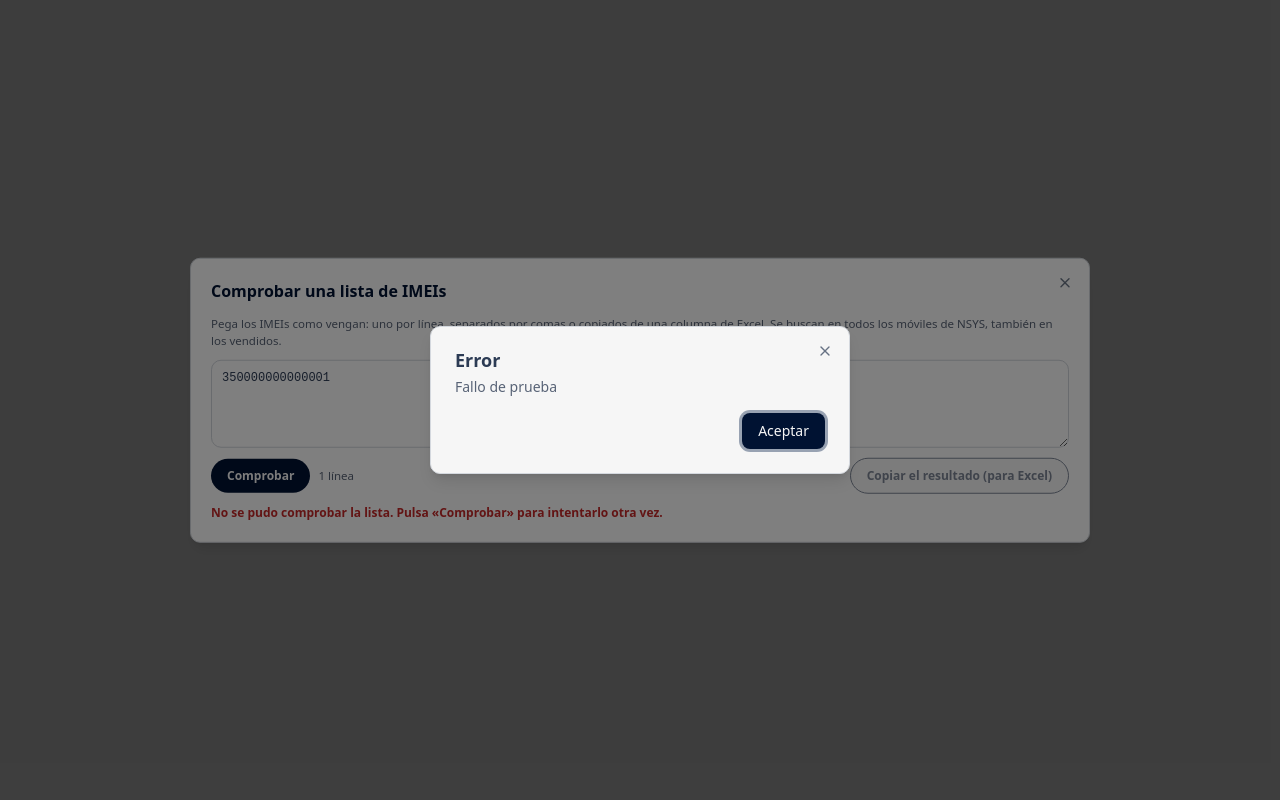
Test: Comprobar una lista de IMEIs (spec 0.9.18 §4.9) › si la comprobación falla lo dice, y «Comprobar» vuelve a preguntar
The width and height of the screenshot is (1280, 800).
Click the button "Aceptar" at (784,431), box [742,413,825,449]
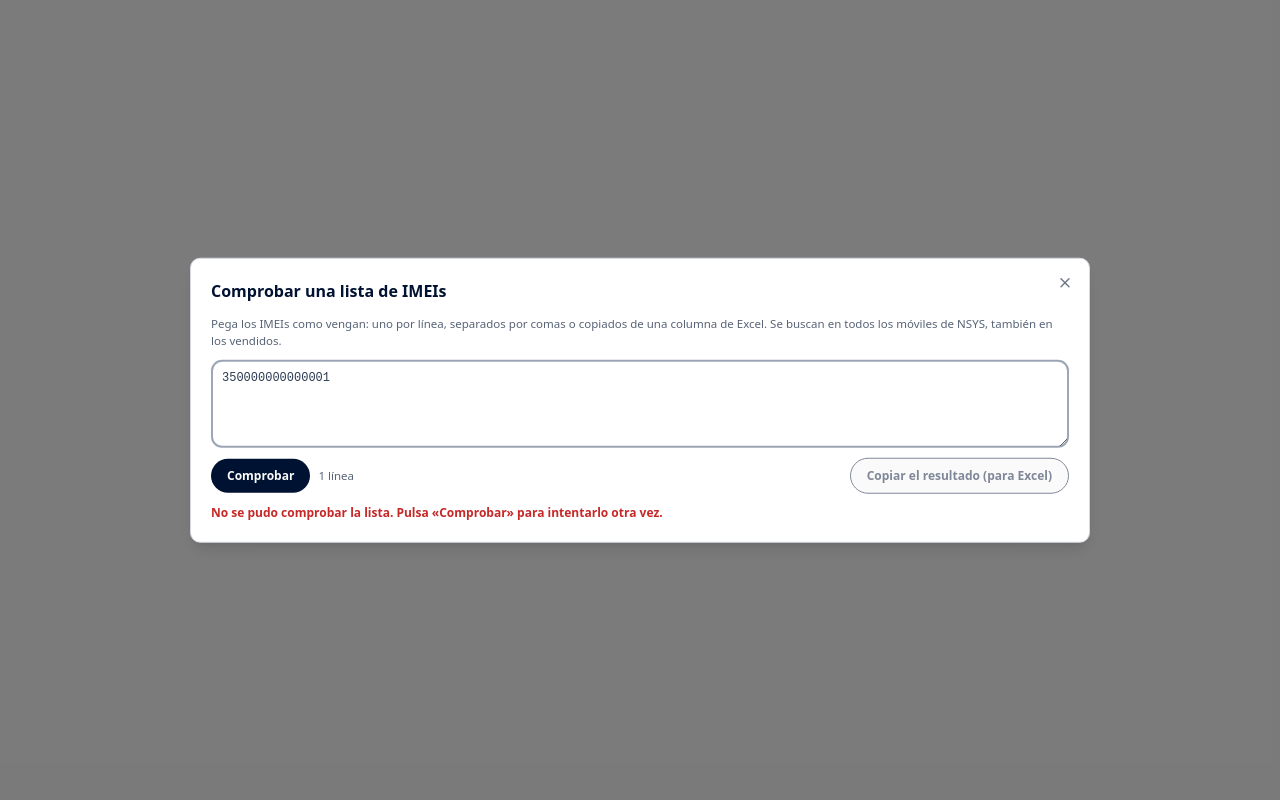
Expected: the text "No se pudo comprobar la lista. Pulsa «Comprobar» para intentarlo otra vez." is shown, [211,503,663,520]
Click the button "Comprobar" at (261,475), box [211,458,310,492]
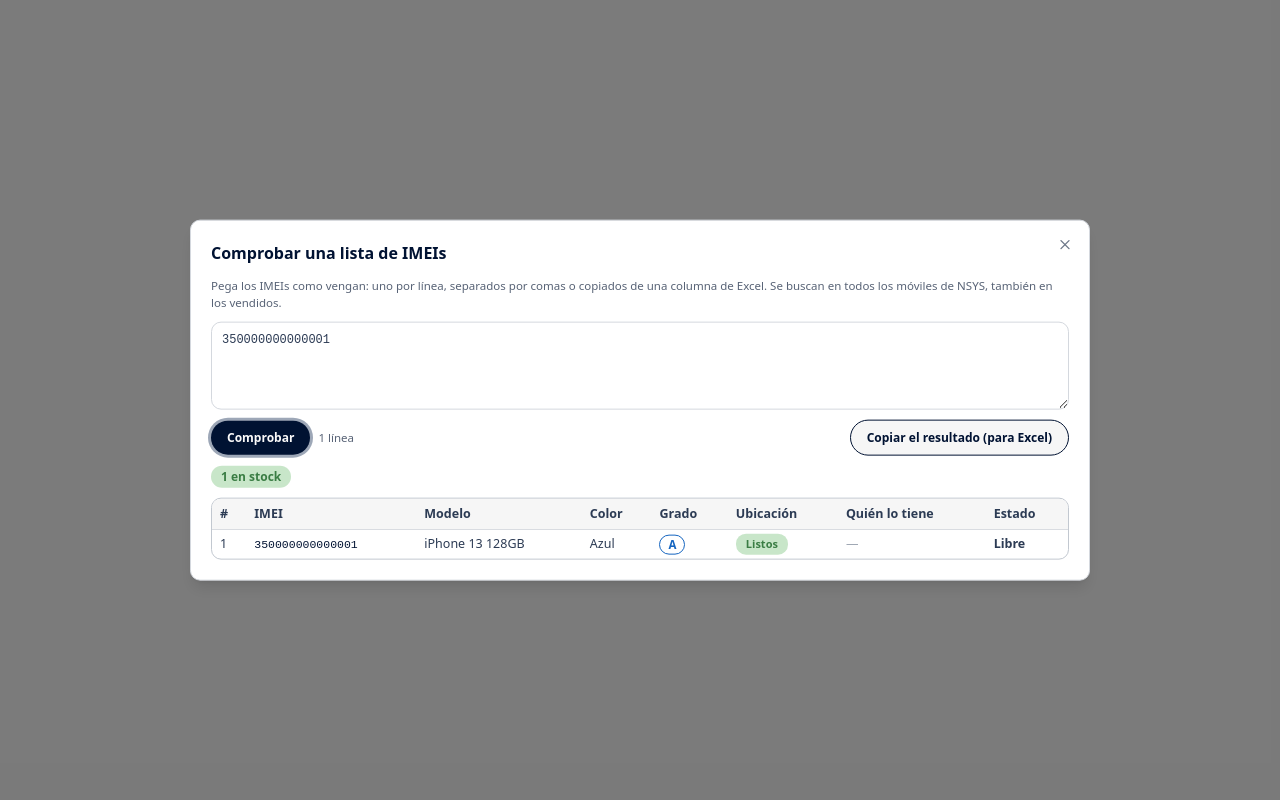
Expected: the table named "Resultado" is shown, [212,498,1068,558]
Expected: the text "No se pudo comprobar" is gone
